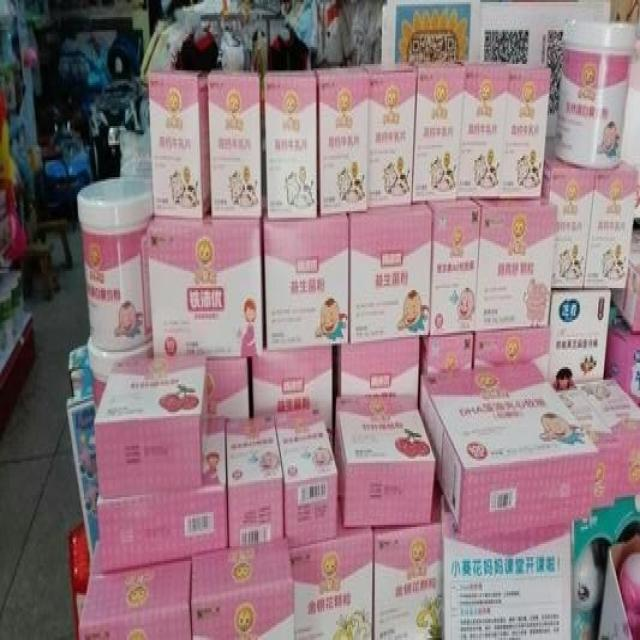box: (419, 361, 598, 542), (96, 418, 227, 574), (148, 213, 263, 361), (94, 354, 208, 497), (334, 397, 436, 529), (348, 205, 432, 343), (264, 215, 348, 352), (77, 542, 192, 640), (475, 201, 557, 331), (191, 538, 294, 640), (291, 518, 372, 640), (148, 70, 211, 220), (274, 405, 339, 550), (373, 523, 444, 640), (263, 70, 318, 220), (316, 66, 371, 215), (253, 350, 333, 452), (208, 70, 262, 218), (225, 414, 283, 550), (363, 64, 417, 209), (413, 62, 466, 201), (425, 201, 480, 333), (457, 64, 510, 198), (585, 164, 640, 290), (544, 158, 596, 288), (501, 66, 551, 198), (549, 290, 611, 388), (339, 337, 419, 395), (473, 329, 551, 382), (208, 358, 249, 418), (421, 333, 473, 369)
